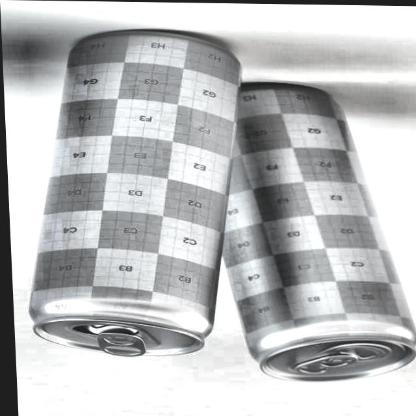Can: (14, 26, 254, 364), (204, 79, 416, 389)
